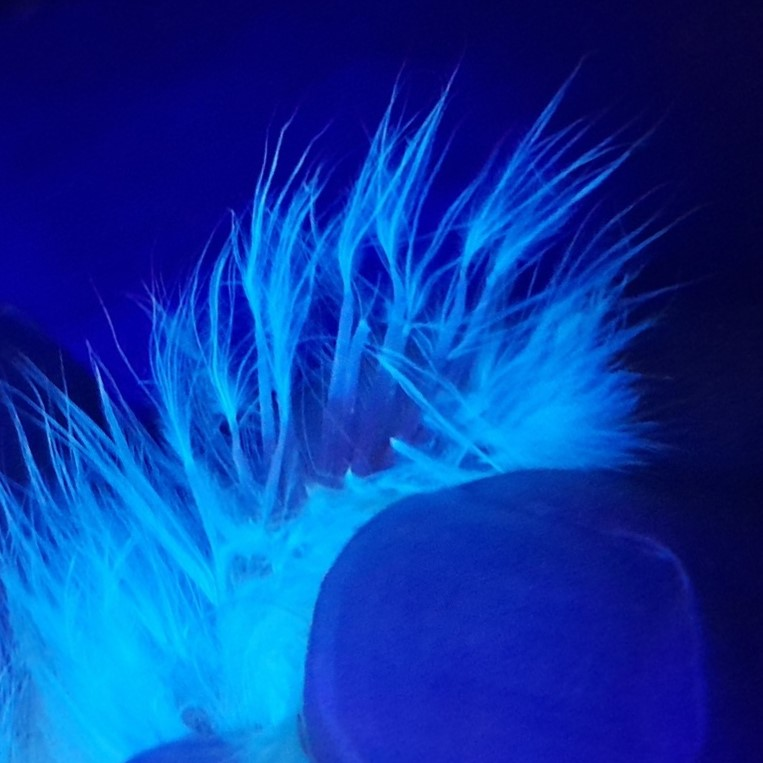male: (218, 250, 544, 495)
